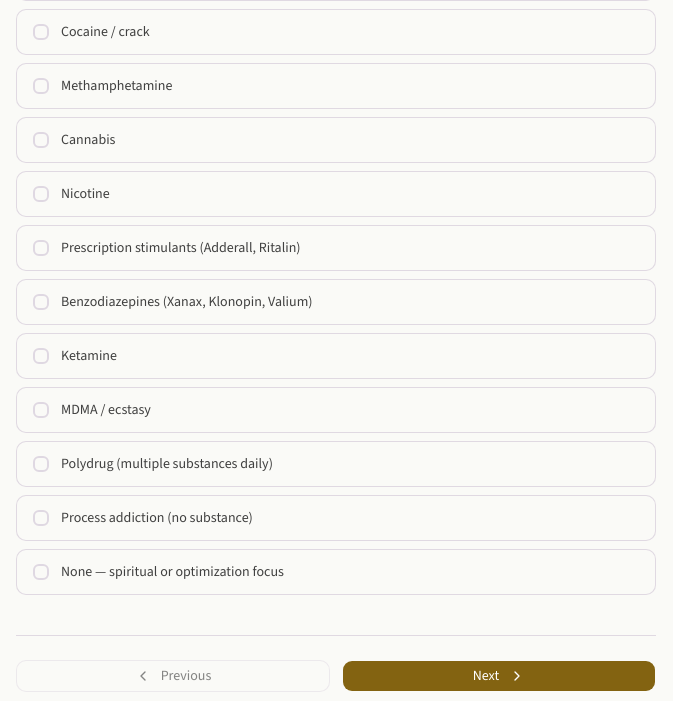
Test case: IbogaCompassAssessment › warns on significant cardiac history and on pregnancy
(page scrolled)
Click the button "Next".
click(499, 676)  # box [342,660,656,692]
(page scrolled)
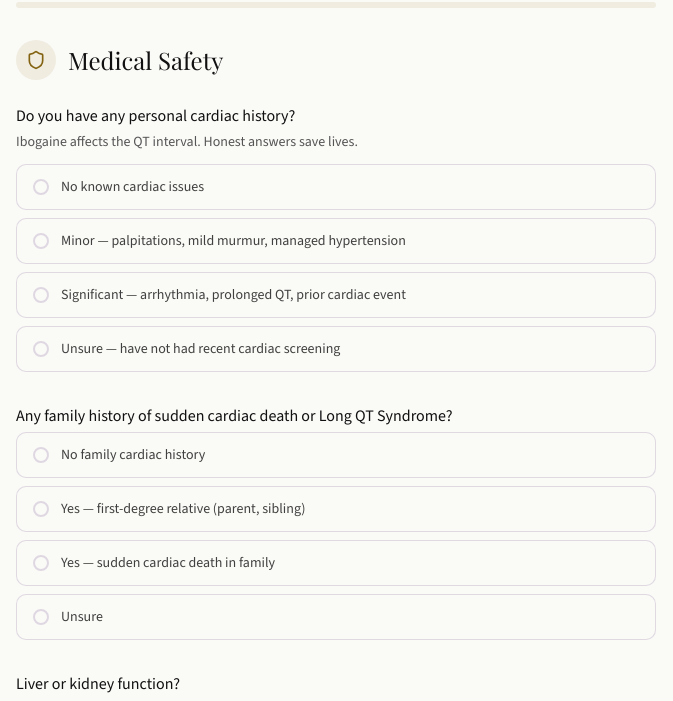
Click the button "Significant — arrhythmia, prolonged QT, prior cardiac event".
click(336, 295)  # box [16,272,656,318]
(page scrolled)
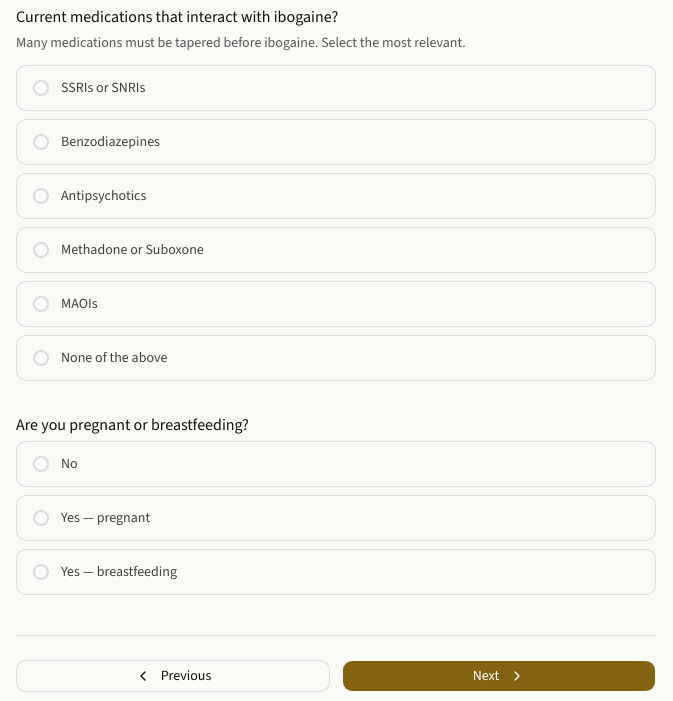
Click the button "Yes — pregnant".
click(106, 518)  # box [16,495,656,541]
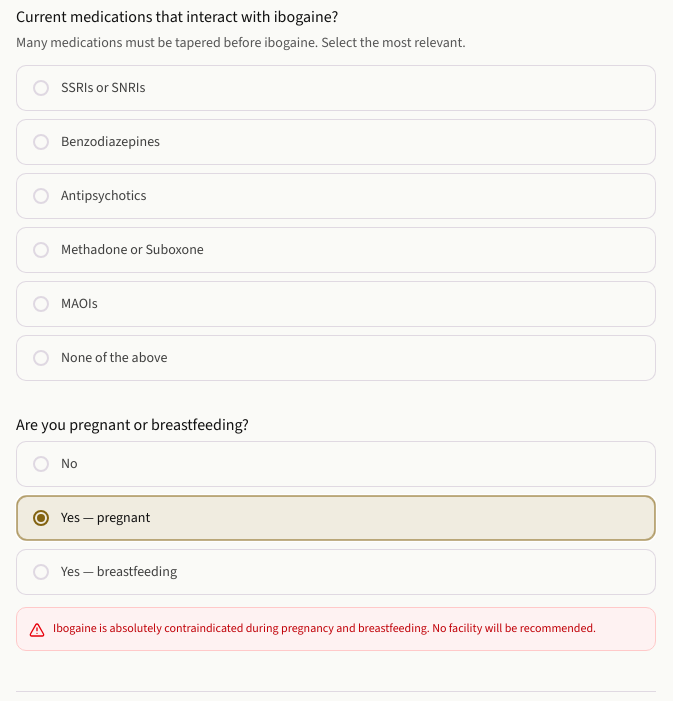
Check: the text "absolutely contraindicated during pregnancy" is shown, box [53,620,596,636]
